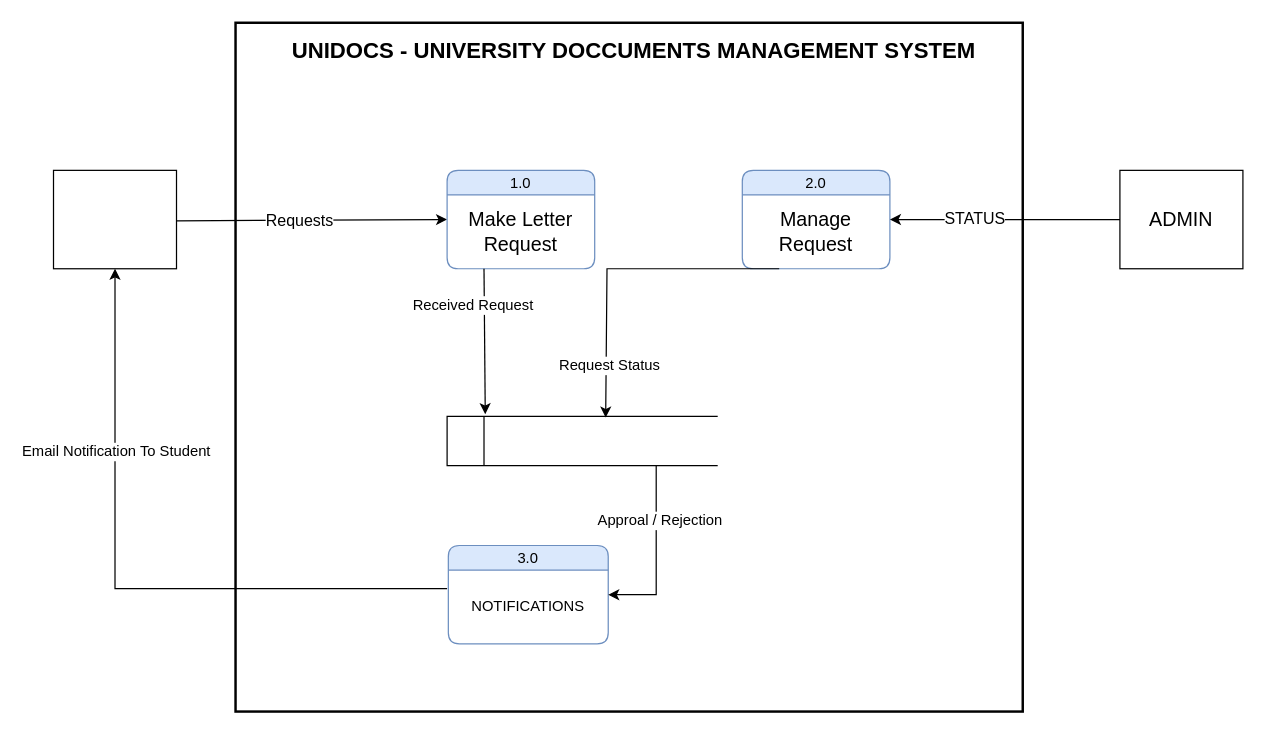
This 1264x733 diagram has some shape labels left out. Here are the shapes that lost their labels. From the top down, the centre of each, then its label:
the point at 114,219: STUDENT
the point at 582,440: LETTER REQUEST TABLE
